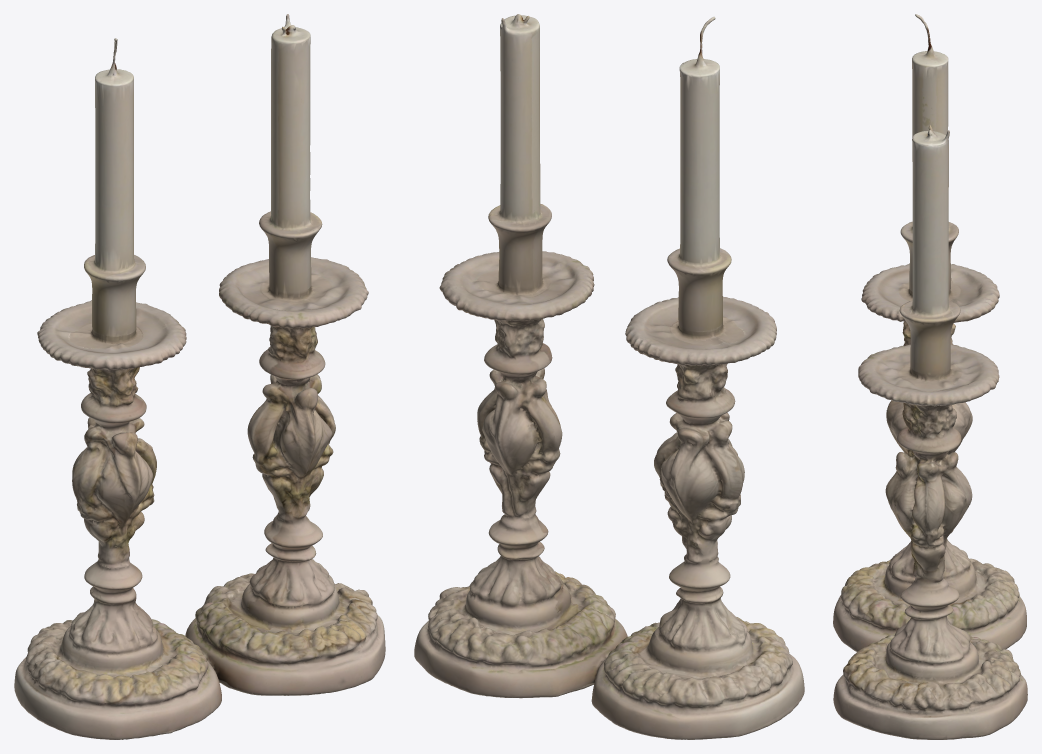
Rendered from Meshy_AI_Short_European_stlyed_0330052138_texture.glb.
3 views of the same model, side by side, from view 1: azimuth 30°, elevation 25°; view 2: azimuth 150°, elevation 25°; view 3: azimuth 270°, elevation 25° (orthographic). The views are drawn at different scales.
Size of the model in its own units: 1.08 by 2 by 0.5802.
1 material, 1 textured.
